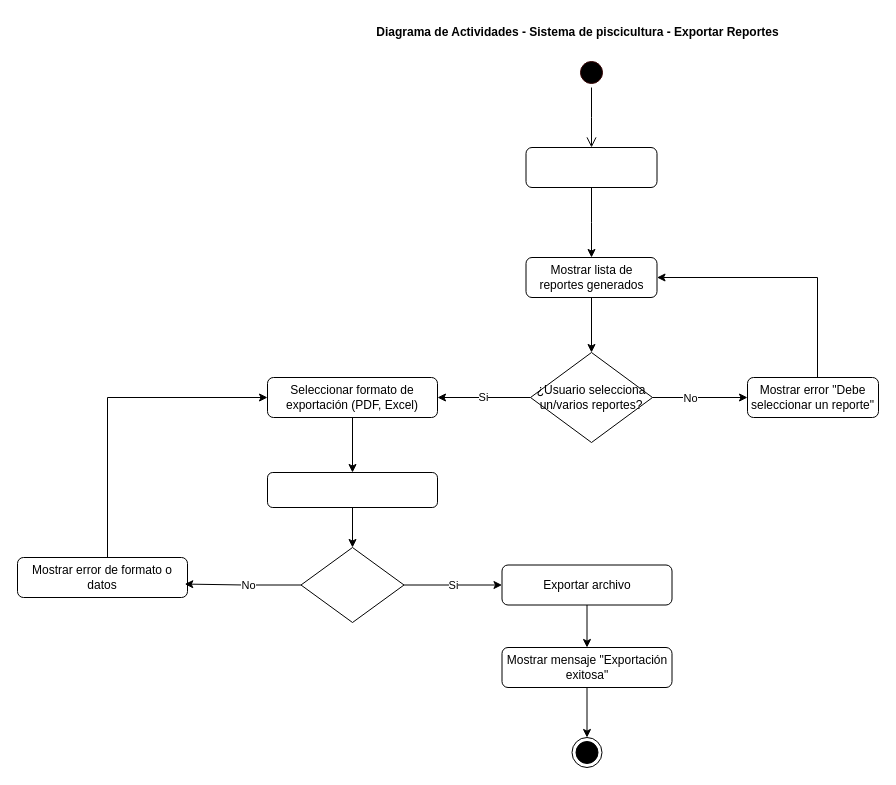
Some shapes in this 896 by 785 pixel diagram are drawn without their labels. Here are the shapes that lost their labels. From the top down, the centre of each, then its label:
(x=591, y=167): Seleccionar opcion "Exportar Reporte"
(x=352, y=490): Validar formato y datos
(x=352, y=584): ¿Validación exitosa?
